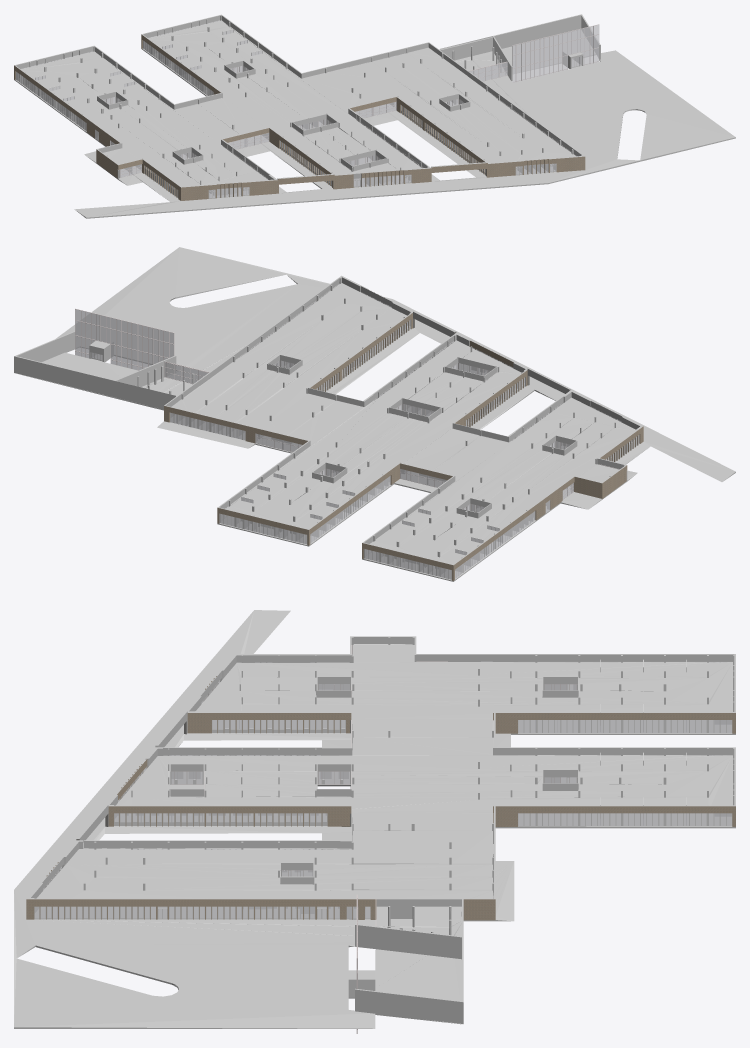
Rendered from Ebene 00_26.09.218.fbx.
The picture shows the model from 3 angles, top to bottom: view 1: azimuth 30°, elevation 25°; view 2: azimuth 150°, elevation 25°; view 3: azimuth 270°, elevation 25°; orthographic projection. The views are drawn at different scales.
Visible parts, largest first — view 1: Farbe, weiß, Glas Normalglas, Naturstein Kalkstein, Fensterrahmen, Metall Aluminium, matt; view 2: Farbe, weiß, Glas Normalglas, Naturstein Kalkstein, Fensterrahmen, Metall Aluminium, matt; view 3: Farbe, weiß, Naturstein Kalkstein, Glas Normalglas, Fensterrahmen, Metall Aluminium, matt.
Part boxes in pixels (x1,y1,x2,y2): Farbe, weiß: (14,14,735,218); Glas Normalglas: (16,20,599,198); Naturstein Kalkstein: (14,34,585,200); Fensterrahmen: (16,20,581,198); Metall Aluminium, matt: (105,24,599,177); Farbe, weiß: (14,247,735,581); Glas Normalglas: (75,284,634,579); Naturstein Kalkstein: (164,289,643,580); Fensterrahmen: (91,283,639,579); Metall Aluminium, matt: (75,308,619,512); Farbe, weiß: (14,610,735,1028); Naturstein Kalkstein: (26,676,735,920); Glas Normalglas: (34,661,731,918); Fensterrahmen: (34,659,732,919); Metall Aluminium, matt: (171,645,576,1033).
Size of the model in its own units: 20144 by 14732 by 1700.
Materials: 14 (5 with a texture image).
